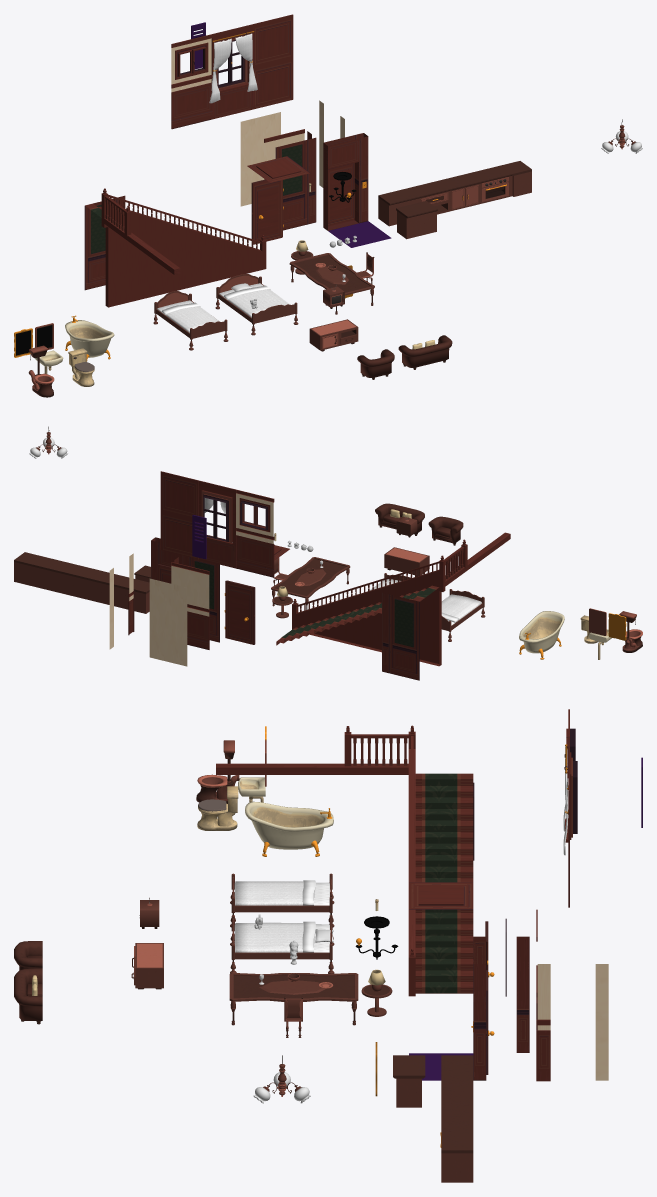
Rendered from Build01.fbx.
3 views of the same model, one above another, from view 1: azimuth 30°, elevation 25°; view 2: azimuth 150°, elevation 25°; view 3: azimuth 270°, elevation 25° (orthographic). The views are drawn at different scales.
Visible parts, largest first — view 1: Stairs_Ramp, WallLong0, Window2, Wall1, DoorFrame03, Window1, Wall0, Door0_Flipped, Table_Large01, Wall1.001, Door0, bed_01 (+22 smaller); view 2: Stairs_Ramp, Wall0, Wall1.001, WallLong0, Window2, Window1, Wall2, Door0_Flipped, Table_Large01, Bath, Wall1, Kitchen_Furtniture_Oven (+20 smaller); view 3: Stairs_carpet, Stairs, Table_Large01, Bath, Bedspread, stairs_ground_ramp, Bedspread_small, Stairs_Ramp, Ceiling03, DoorFrame03, WallAngle2, WallAngle0 (+16 smaller).
Part boxes in pixels (box(x1,y1,x2,y2)): Stairs_Ramp: box(101, 188, 266, 307); WallLong0: box(253, 14, 293, 109); Window2: box(171, 34, 212, 129); Wall1: box(275, 137, 316, 230); DoorFrame03: box(323, 133, 368, 230); Window1: box(211, 24, 252, 119); Wall0: box(240, 112, 280, 206); Door0_Flipped: box(251, 179, 283, 244); Table_Large01: box(289, 253, 374, 314); Wall1.001: box(84, 195, 125, 290); Door0: box(328, 163, 354, 226); bed_01: box(215, 274, 298, 335); Stairs_Ramp: box(292, 555, 445, 666); Wall0: box(149, 578, 187, 666); Wall1.001: box(382, 592, 419, 680); WallLong0: box(160, 471, 198, 559); Window2: box(236, 489, 274, 577); Window1: box(198, 480, 236, 568); Wall2: box(171, 562, 209, 649); Door0_Flipped: box(224, 580, 255, 644); Table_Large01: box(271, 557, 350, 609); Bath: box(519, 611, 564, 659); Wall1: box(182, 555, 219, 642); Kitchen_Furtniture_Oven: box(33, 557, 71, 592); Stairs_carpet: box(422, 773, 460, 993); Stairs: box(415, 773, 473, 993); Table_Large01: box(229, 973, 358, 1025); Bath: box(245, 801, 333, 856); Bedspread: box(235, 921, 315, 952); stairs_ground_ramp: box(216, 763, 408, 774); Bedspread_small: box(235, 880, 315, 905); Stairs_Ramp: box(408, 725, 415, 996); Ceiling03: box(409, 882, 473, 909); DoorFrame03: box(473, 937, 486, 1080); WallAngle2: box(536, 964, 550, 1081); WallAngle0: box(595, 964, 608, 1080).
Bounding box in the file's own units: 30.9 × 10.75 × 19.55.
